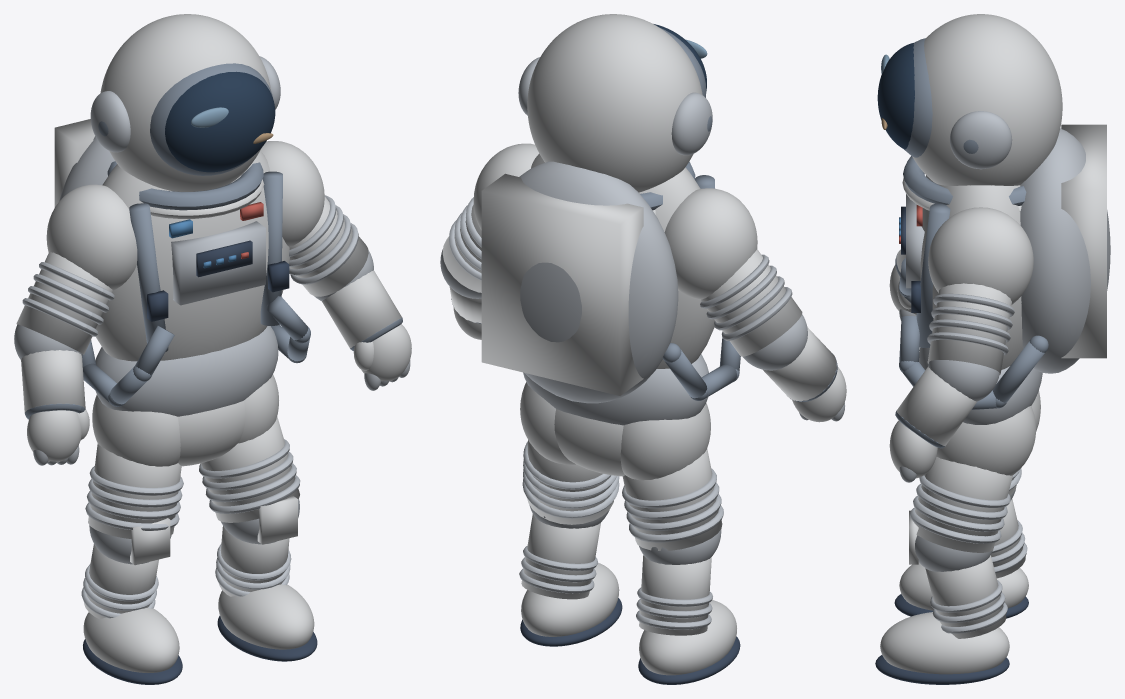
Rendered from astronaut.glb.
3 views of the same model, side by side, from view 1: azimuth 30°, elevation 25°; view 2: azimuth 150°, elevation 25°; view 3: azimuth 270°, elevation 25° (orthographic). The views are drawn at different scales.
Bounding box in the file's own units: 1.17 × 1.85 × 0.6323.
